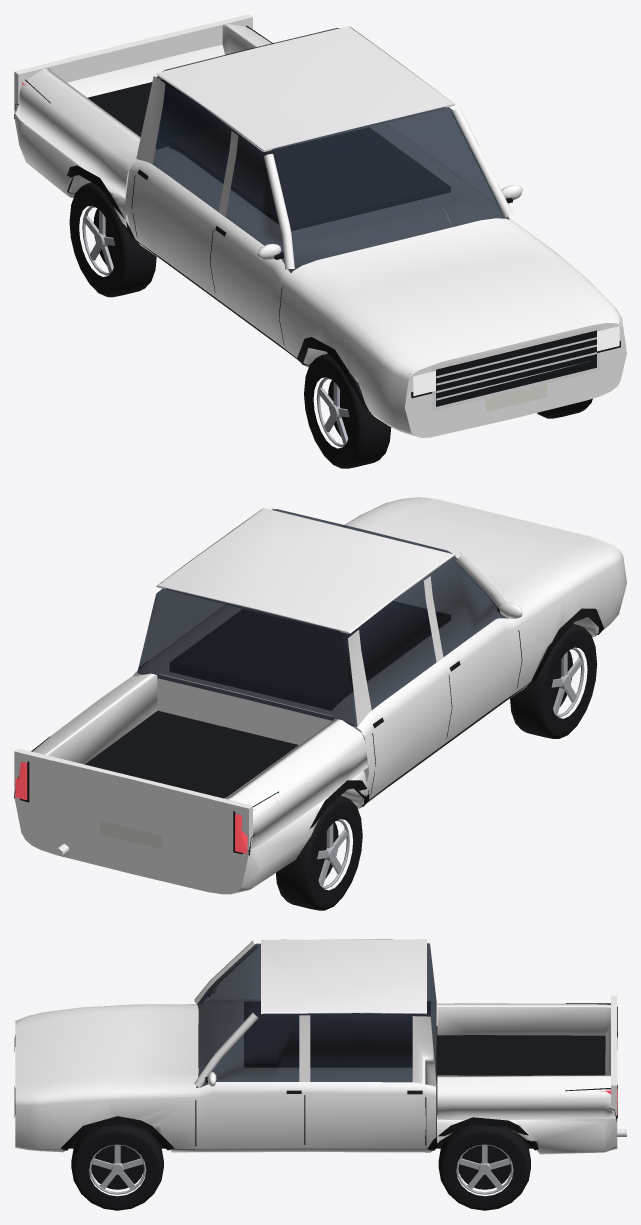
The model's file is granforge_hauler.lod.glb.
3 views of the same model, one above another, from view 1: azimuth 30°, elevation 25°; view 2: azimuth 150°, elevation 25°; view 3: azimuth 270°, elevation 25° (orthographic). The views are drawn at different scales.
Visible parts, largest first — view 1: body_paint, body_glass, body_trim, tire (×2), body_chrome, rim (×2), door_glass, headlights; view 2: body_paint, body_glass, body_trim, tire (×2), rim (×2), taillights; view 3: body_paint, body_trim, body_glass, tire (×2), door_paint, rim_back (×2), rim (×2), door_glass.
Boxes of the visible parts, box(x1,y1,x2,y2) form: body_paint: box(14, 14, 626, 437); body_glass: box(138, 28, 498, 272); body_trim: box(14, 25, 620, 413); tire (×2): box(69, 182, 391, 468); body_chrome: box(432, 326, 600, 411); rim (×2): box(82, 205, 349, 447); door_glass: box(441, 192, 509, 226); headlights: box(413, 326, 619, 396); body_paint: box(14, 497, 626, 894); body_glass: box(137, 509, 505, 726); body_trim: box(14, 601, 604, 855); tire (×2): box(276, 624, 597, 910); rim (×2): box(317, 647, 584, 889); taillights: box(15, 761, 274, 853); body_paint: box(15, 939, 617, 1154); body_trim: box(14, 995, 617, 1150); body_glass: box(197, 943, 436, 1086); tire (×2): box(71, 1124, 530, 1210); door_paint: box(196, 1067, 304, 1152); rim_back (×2): box(91, 1145, 511, 1189); rim (×2): box(89, 1144, 513, 1194); door_glass: box(196, 1045, 276, 1087).
Size of the model in its own units: 2.23 by 1.97 by 5.7.
